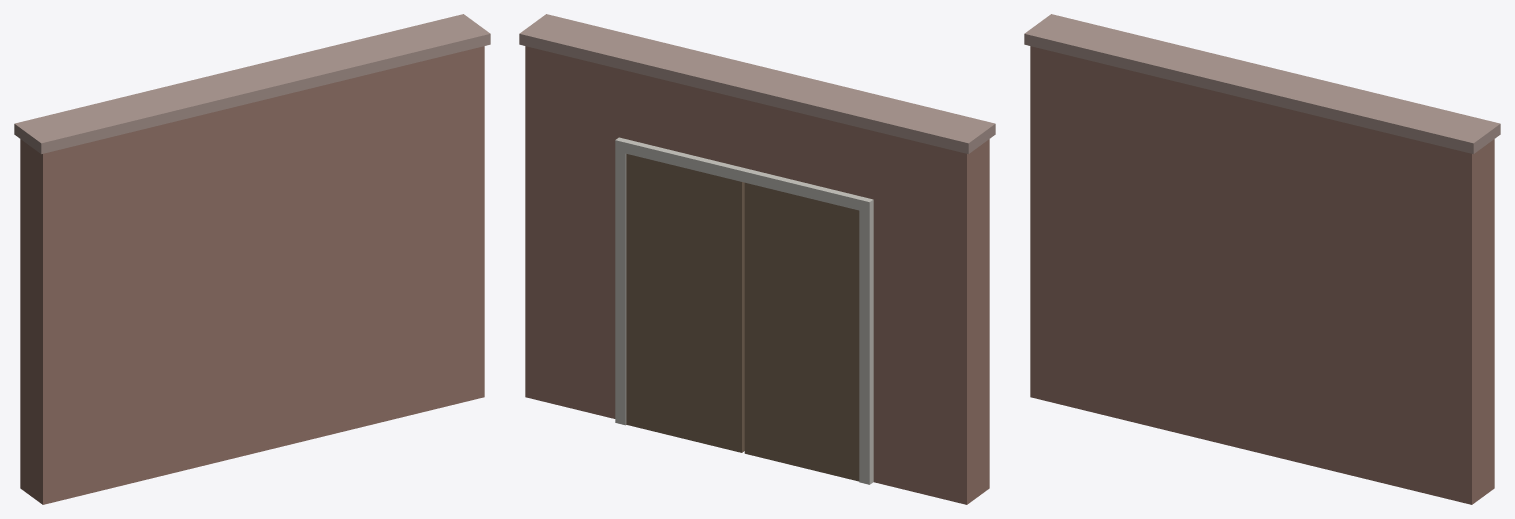
File: alley_end.glb
3 renders of one model, left to right at view 1: azimuth 30°, elevation 25°; view 2: azimuth 150°, elevation 25°; view 3: azimuth 330°, elevation 25°, orthographic.
Parts seen in each view (by area): view 1: Part0; view 2: Part0; view 3: Part0.
Part boxes in pixels (x1=…): Part0: x1=14, y1=14, x2=490, y2=504; Part0: x1=519, y1=14, x2=995, y2=504; Part0: x1=1024, y1=14, x2=1500, y2=504.
Bounding box in the file's own units: 3.46 × 2.68 × 0.38.
